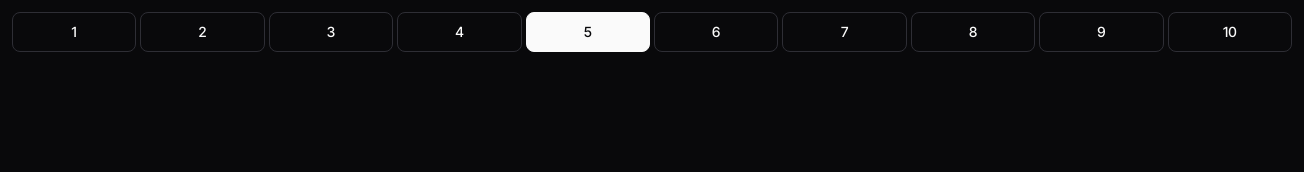
RatingStrip › keeps a failure message after settling and reverts the pressed step
Click the button named "Rate 8 out of 10" at (973, 32), box [911,12,1035,52]
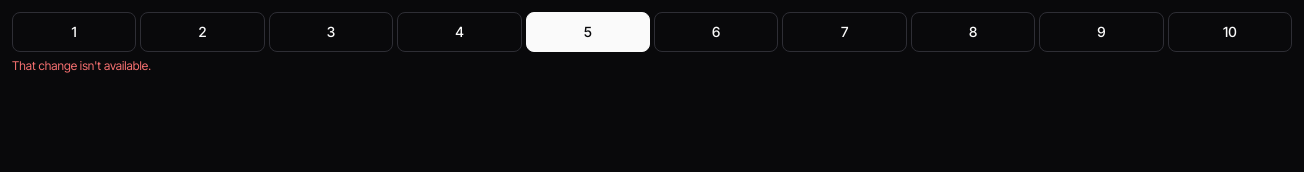
Result: the message reads "That change isn't available." at [12,58,151,73]
